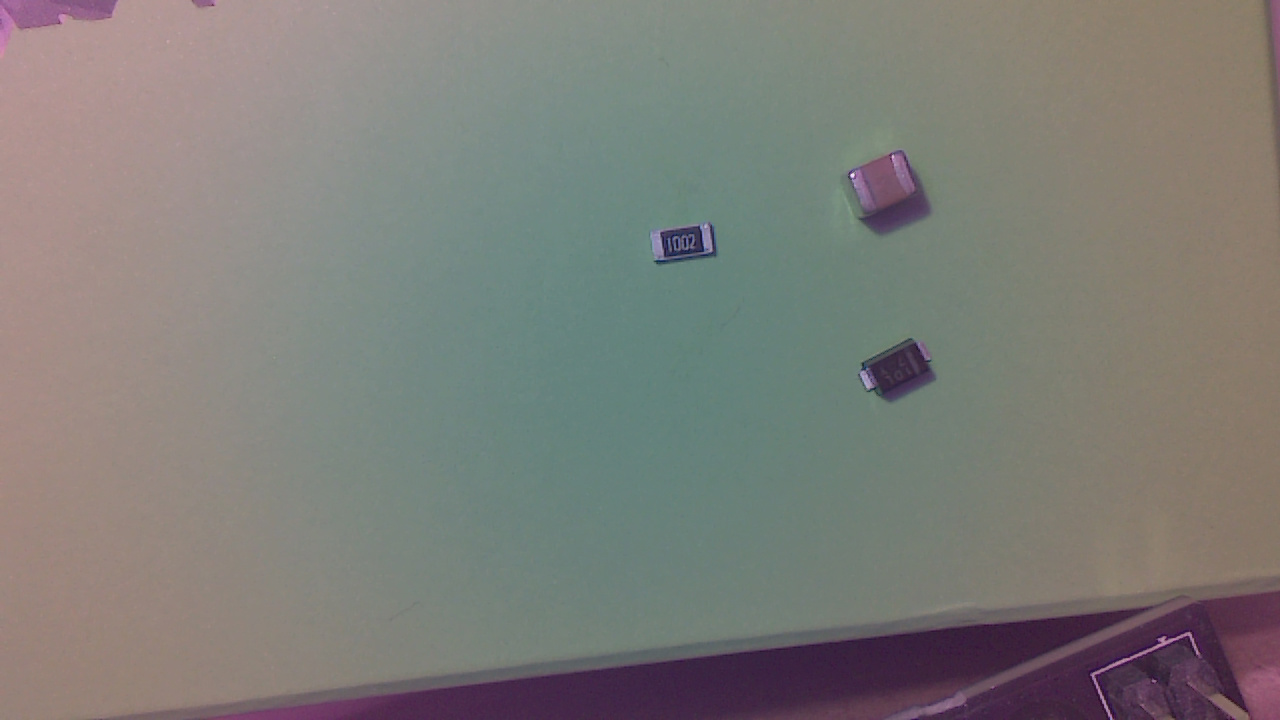Condensator: (851, 159, 926, 226)
Diode: (863, 345, 939, 399)
Resistor: (656, 224, 724, 269)
